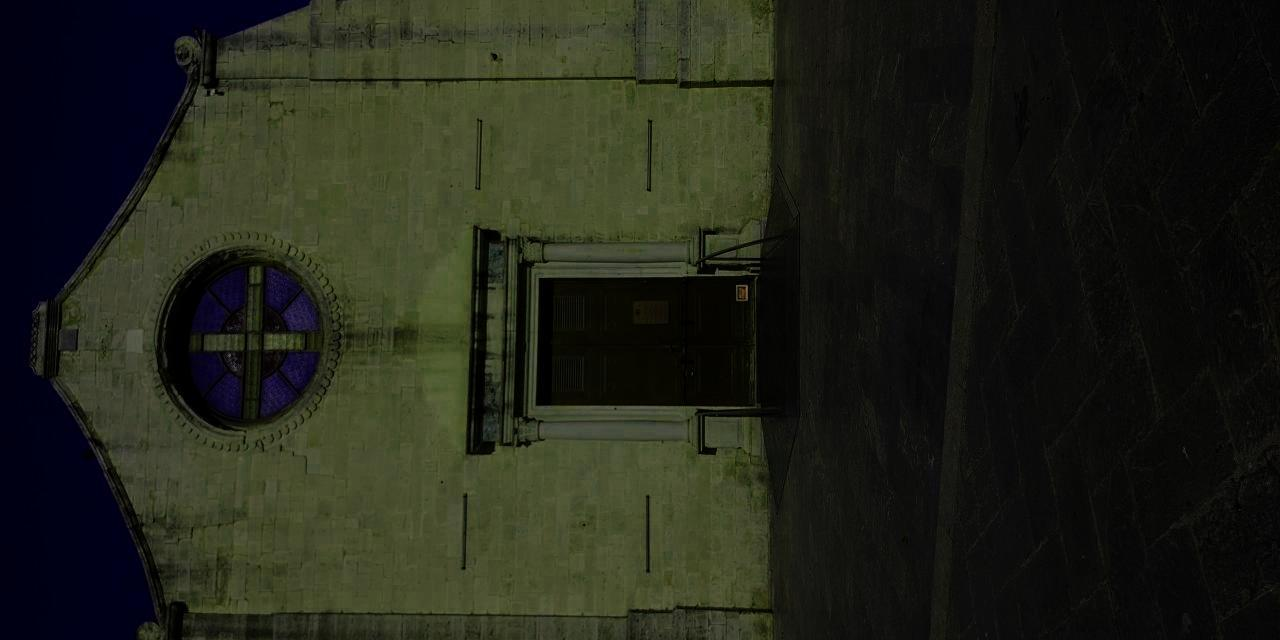Agia Aikaterini: (5, 1, 578, 628)
